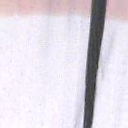crackTip: (82, 3, 112, 128)
